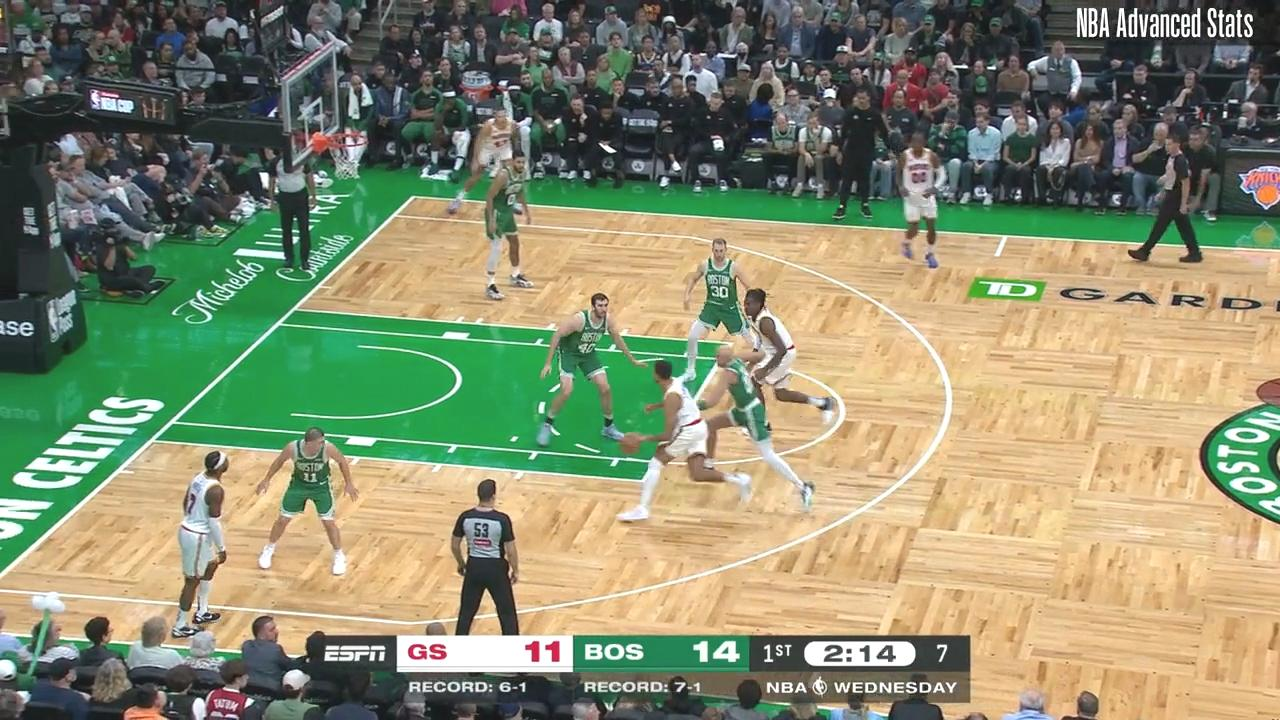basketball: (618, 428, 643, 457)
